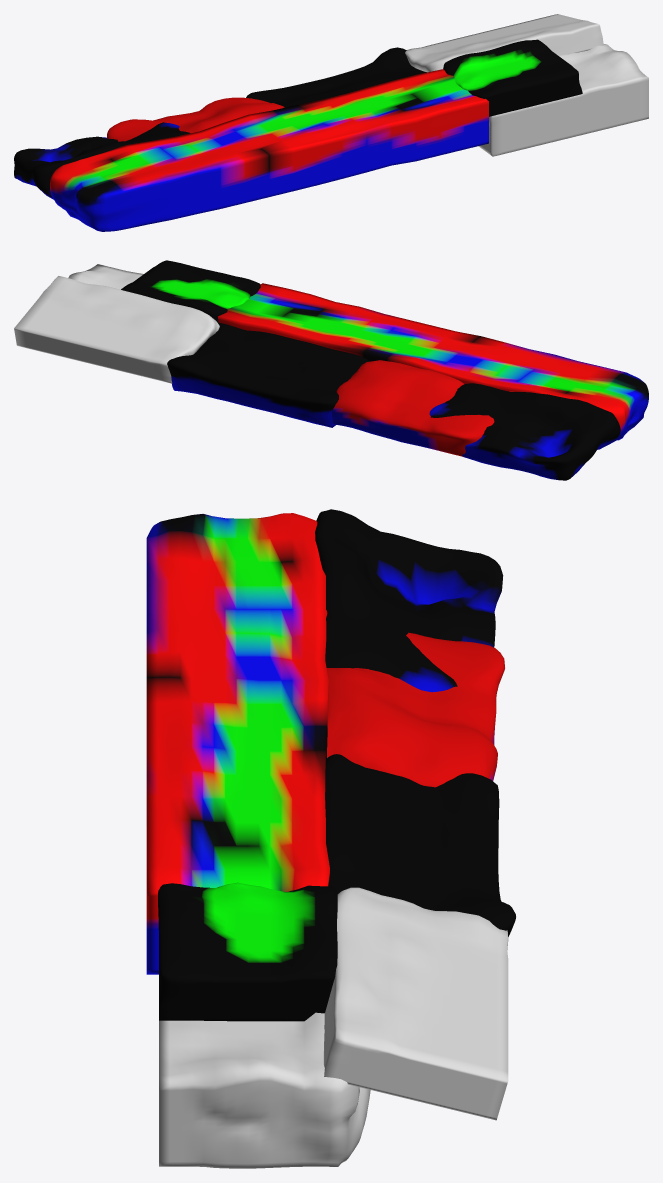
The model's file is Second Floor 1.fbx.
3 views of the same model, one above another, from view 1: azimuth 30°, elevation 25°; view 2: azimuth 150°, elevation 25°; view 3: azimuth 270°, elevation 25° (orthographic). The views are drawn at different scales.
Visible parts, largest first — view 1: Floor, Floor_6, Floor_1, Floor_5, Floor_4, Floor_3, Floor_2; view 2: Floor, Floor_5, Floor_4, Floor_3, Floor_2, Floor_1, Floor_6; view 3: Floor, Floor_5, Floor_6, Floor_1, Floor_4, Floor_3, Floor_2.
Part boxes in pixels (bbox=[...]): Floor: bbox=[50, 69, 488, 231]; Floor_6: bbox=[478, 44, 648, 156]; Floor_1: bbox=[443, 39, 582, 116]; Floor_5: bbox=[405, 14, 603, 72]; Floor_4: bbox=[246, 47, 426, 107]; Floor_3: bbox=[14, 122, 190, 199]; Floor_2: bbox=[107, 97, 284, 141]; Floor: bbox=[218, 283, 648, 443]; Floor_5: bbox=[14, 276, 219, 383]; Floor_4: bbox=[167, 322, 370, 427]; Floor_3: bbox=[429, 383, 620, 480]; Floor_2: bbox=[332, 360, 513, 456]; Floor_1: bbox=[121, 260, 260, 323]; Floor_6: bbox=[68, 264, 143, 289]; Floor: bbox=[146, 513, 329, 974]; Floor_5: bbox=[323, 887, 508, 1120]; Floor_6: bbox=[159, 1012, 370, 1168]; Floor_1: bbox=[158, 882, 337, 1021]; Floor_4: bbox=[325, 754, 515, 936]; Floor_3: bbox=[315, 509, 503, 692]; Floor_2: bbox=[326, 610, 504, 787].
Size of the model in its own units: 14670 by 1806 by 4125.
